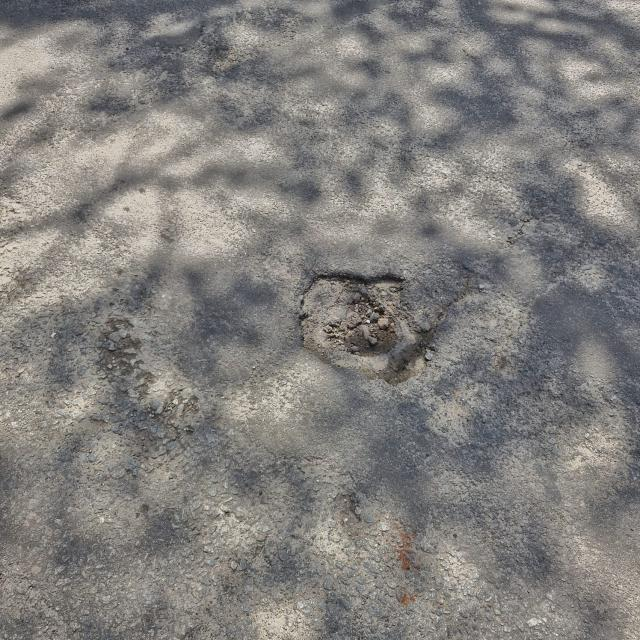pothole: (43, 301, 194, 443), (294, 263, 452, 388), (197, 34, 255, 76)
